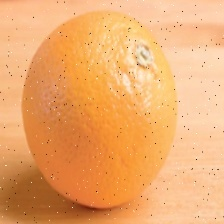orange: (28, 58, 185, 199)
